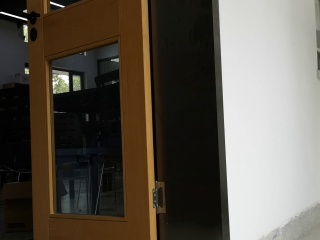room: (22, 2, 238, 240)
